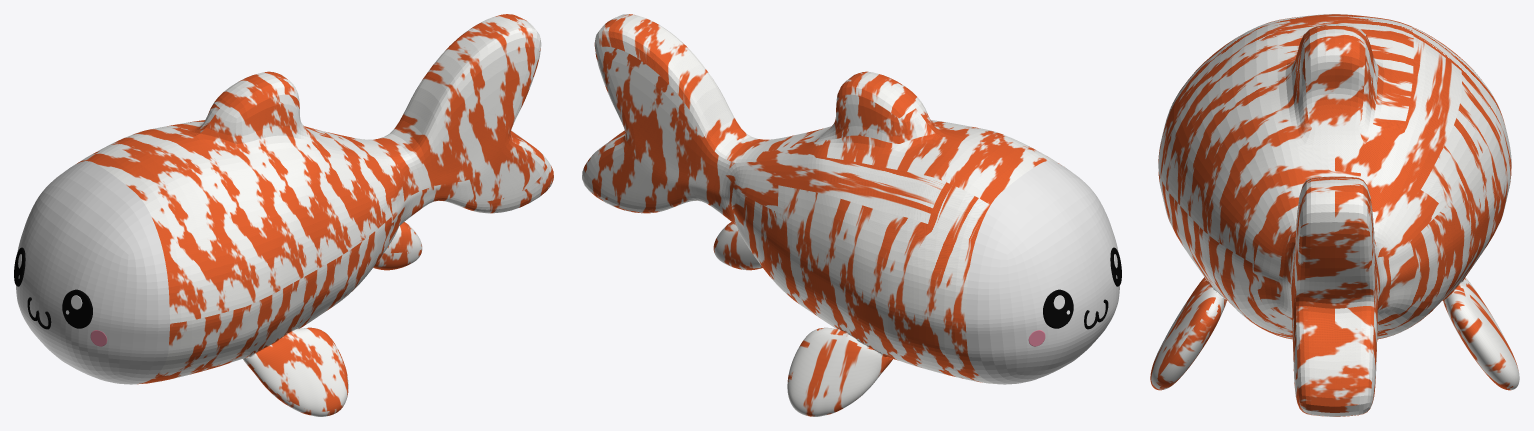
Rendered from 06-30_Koifish-Sprint 3.glb.
3 views of the same model, side by side, from view 1: azimuth 30°, elevation 25°; view 2: azimuth 150°, elevation 25°; view 3: azimuth 270°, elevation 25° (orthographic). The views are drawn at different scales.
Parts seen in each view (by area): view 1: Body, Eye; view 2: Body, Eye; view 3: Body.
Part boxes in pixels (bbox=[...]): Body: bbox=[16, 14, 553, 416]; Eye: bbox=[14, 247, 92, 328]; Body: bbox=[582, 14, 1119, 416]; Eye: bbox=[1043, 247, 1121, 328]; Body: bbox=[1150, 14, 1519, 416].
Bounding box in the file's own units: 33.21 × 17.88 × 16.59.
Materials: 6 (1 with a texture image).
